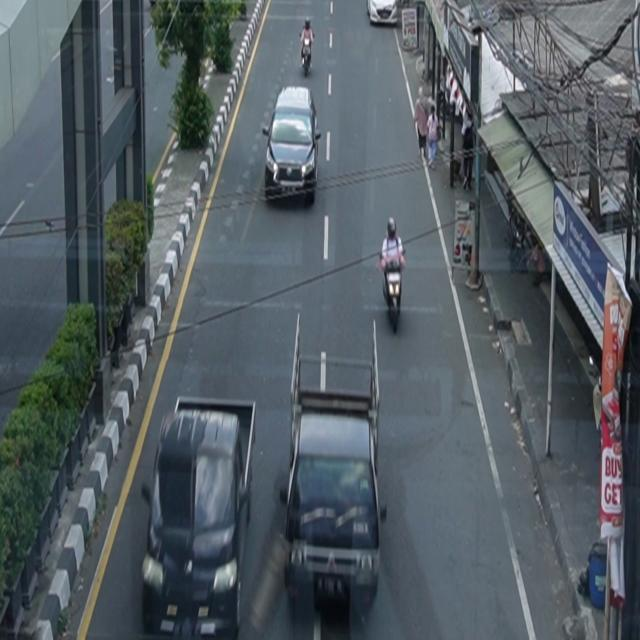car: (142, 397, 256, 640), (263, 86, 322, 204), (367, 1, 398, 26)
